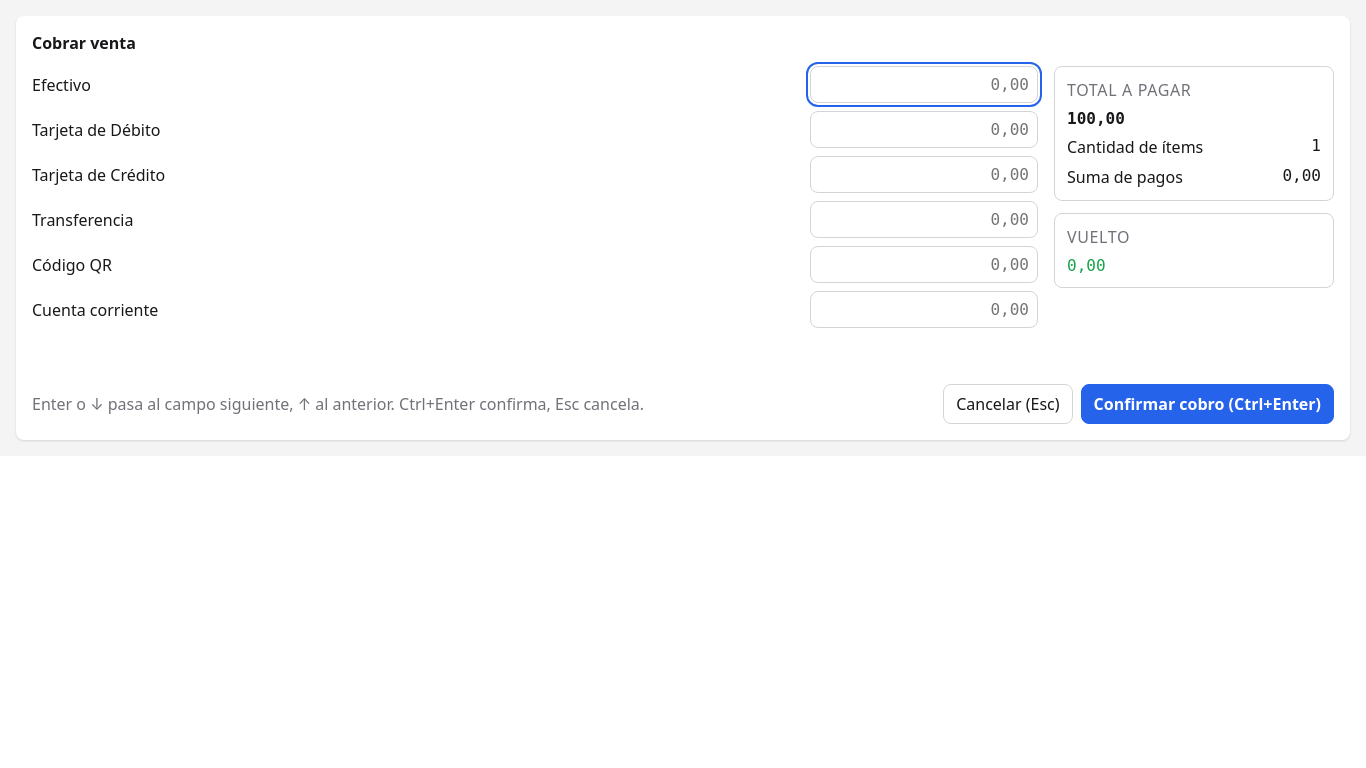
Test: CheckoutScreen — saldo del cliente con cuenta corriente (#101) › con monto en Cuenta corriente muestra el saldo antes y después; sin monto, no
expect the text "Saldo del cliente" is not shown: met
Type "300" into the field labelled "Cuenta corriente" at (924, 310), box x1=810 y1=291 x2=1038 y2=328
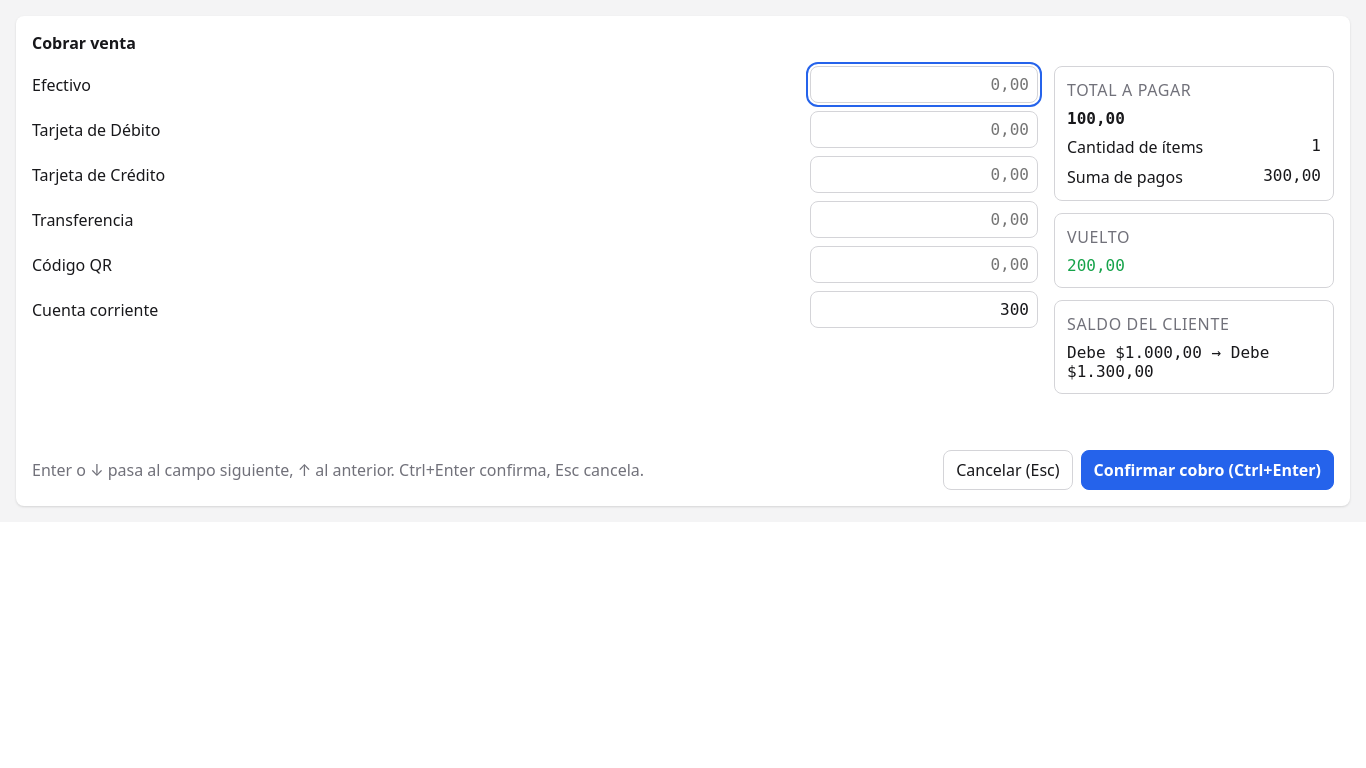
expect the text "Saldo del cliente" is shown: met, box x1=1067 y1=313 x2=1230 y2=335
expect the text "Debe $1.000,00 → Debe $1.300,00" is shown: met, box x1=1067 y1=343 x2=1269 y2=381
